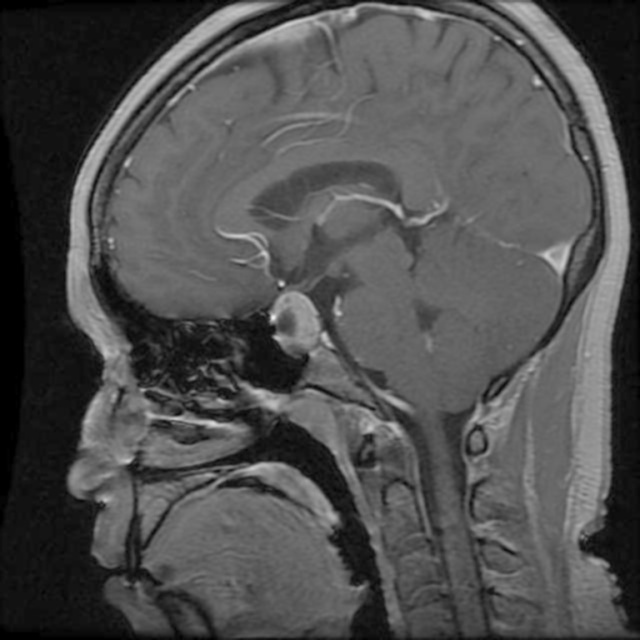no tumor: (261, 284, 330, 362)
